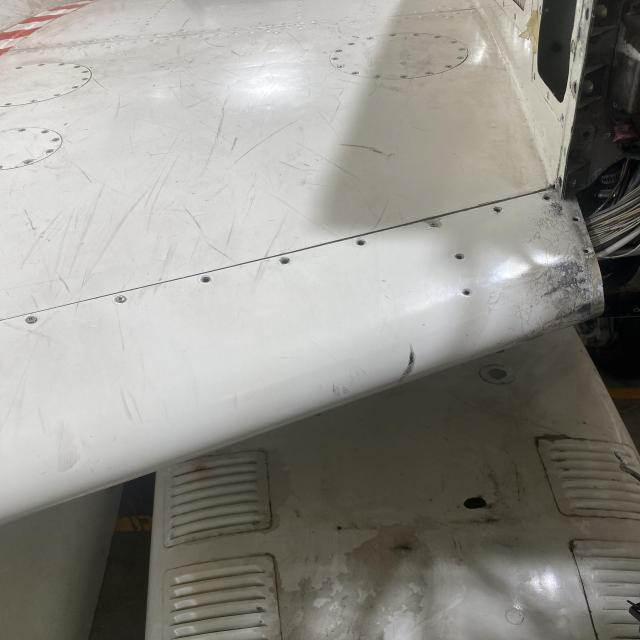Missing_Fastener: (451, 250, 468, 263), (197, 274, 215, 286), (491, 204, 507, 217), (352, 236, 369, 248), (277, 255, 294, 266), (460, 287, 476, 298), (540, 194, 554, 202), (568, 214, 582, 222), (580, 246, 592, 254)
